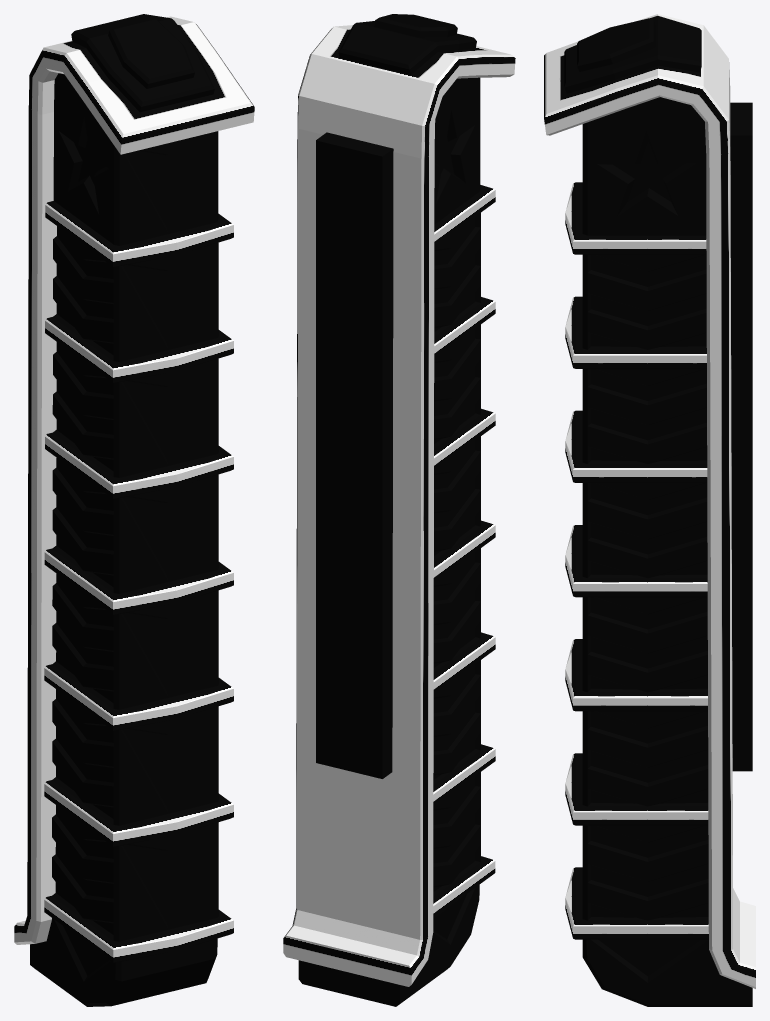
The model's file is SM_Prop_Casino_Sign_Decor_06.fbx.
The picture shows the model from 3 angles, left to right: view 1: azimuth 30°, elevation 25°; view 2: azimuth 150°, elevation 25°; view 3: azimuth 270°, elevation 25°; orthographic projection. The views are drawn at different scales.
Parts seen in each view (by area): view 1: SM_Prop_Casino_Sign_Decor_06; view 2: SM_Prop_Casino_Sign_Decor_06; view 3: SM_Prop_Casino_Sign_Decor_06.
Part boxes in pixels (x1=…): SM_Prop_Casino_Sign_Decor_06: x1=14, y1=14, x2=254, y2=1006; SM_Prop_Casino_Sign_Decor_06: x1=283, y1=14, x2=515, y2=1006; SM_Prop_Casino_Sign_Decor_06: x1=544, y1=14, x2=755, y2=1006.
Size of the model in its own units: 116 by 812 by 163.
